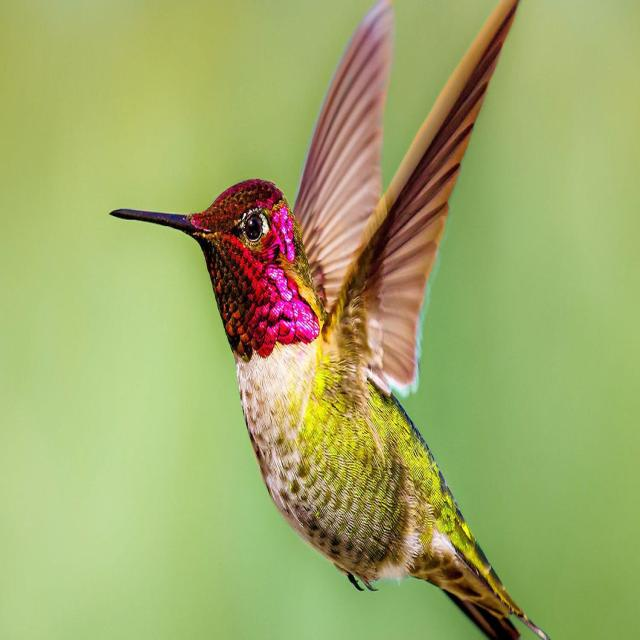Humming Bird: (112, 19, 542, 640)
